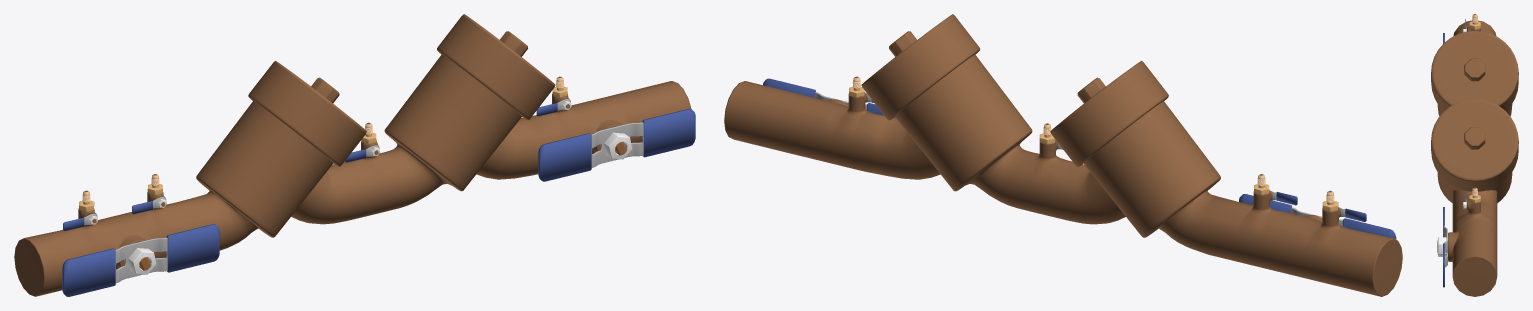
The model's file is DoubleCheckExport.fbx.
3 views of the same model, side by side, from view 1: azimuth 30°, elevation 25°; view 2: azimuth 150°, elevation 25°; view 3: azimuth 270°, elevation 25° (orthographic). The views are drawn at different scales.
Visible parts, largest first — view 1: TestCockBodySegment.012_Baked_Baked, SOHANDLE.001_Baked.001_Baked, SOHANDLE.001_Baked_Baked; view 2: TestCockBodySegment.012_Baked_Baked, SOHANDLE.001_Baked_Baked, SOHANDLE.001_Baked.001_Baked; view 3: TestCockBodySegment.012_Baked_Baked, SOHANDLE.001_Baked.001_Baked.
Part boxes in pixels (bbox=[...]): TestCockBodySegment.012_Baked_Baked: bbox=[14, 14, 691, 296]; SOHANDLE.001_Baked.001_Baked: bbox=[538, 109, 695, 181]; SOHANDLE.001_Baked_Baked: bbox=[62, 224, 219, 296]; TestCockBodySegment.012_Baked_Baked: bbox=[724, 14, 1402, 296]; SOHANDLE.001_Baked_Baked: bbox=[1239, 194, 1396, 239]; SOHANDLE.001_Baked.001_Baked: bbox=[763, 78, 895, 117]; TestCockBodySegment.012_Baked_Baked: bbox=[1431, 14, 1518, 296]; SOHANDLE.001_Baked.001_Baked: bbox=[1437, 207, 1447, 287].
Bounding box in the file's own units: 45.73 × 11.19 × 7.18.
